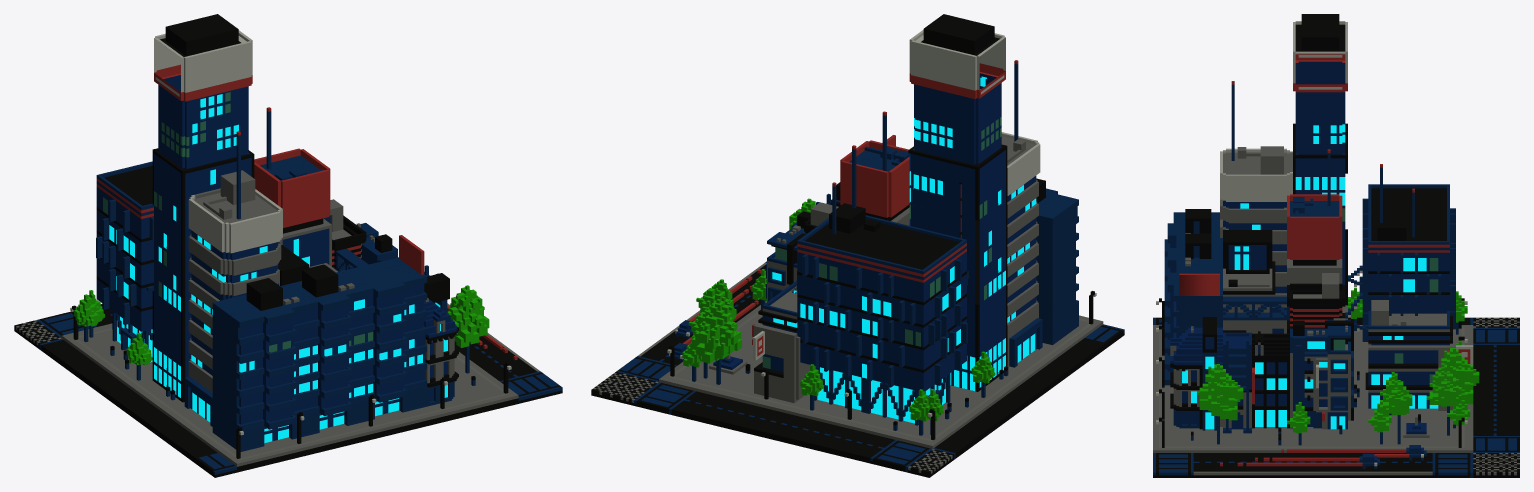
File: city.glb
3 views of the same model, side by side, from view 1: azimuth 30°, elevation 25°; view 2: azimuth 150°, elevation 25°; view 3: azimuth 270°, elevation 25° (orthographic). The views are drawn at different scales.
Parts seen in each view (by area): view 1: _gltfNode_0; view 2: _gltfNode_0; view 3: _gltfNode_0.
Boxes of the visible parts, <box> form: _gltfNode_0: <box>14,14,562,477</box>; _gltfNode_0: <box>591,14,1124,477</box>; _gltfNode_0: <box>1153,14,1519,477</box>.
Size of the model in its own units: 126 by 126 by 126.
4 materials, 2 textured.
